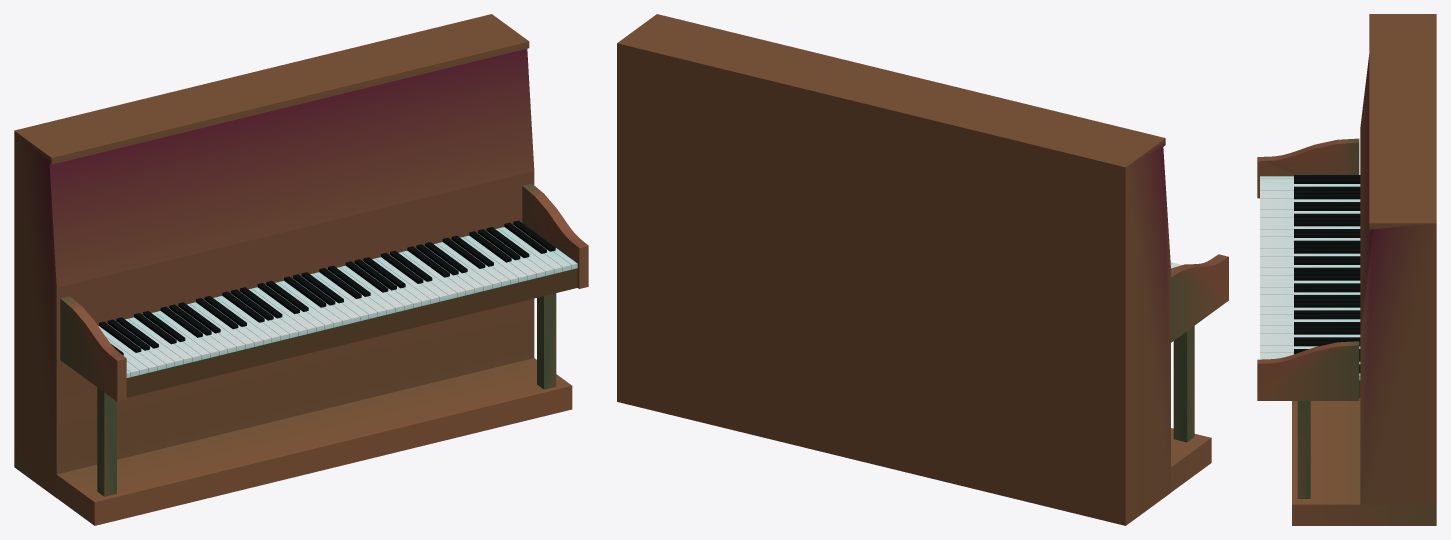
3 renders of one model, left to right at view 1: azimuth 30°, elevation 25°; view 2: azimuth 150°, elevation 25°; view 3: azimuth 270°, elevation 25°, orthographic. The views are drawn at different scales.
Visible parts, largest first — view 1: case, plinth, key_bed, cheek.001, cheek, support.001, support; view 2: case, cheek.001, support.001, plinth; view 3: case, plinth, cheek, cheek.001, support, white_key.021, white_key.028, white_key.035, white_key.042, black_key.014, black_key.004, black_key.009 (+37 smaller).
Part boxes in pixels (<box>): case: <box>14,14,534,497</box>; plinth: <box>14,358,572,525</box>; key_bed: <box>126,268,577,397</box>; cheek.001: <box>60,296,126,401</box>; cheek: <box>522,183,588,288</box>; support.001: <box>97,387,116,496</box>; support: <box>537,293,556,389</box>; case: <box>617,14,1170,525</box>; cheek.001: <box>1171,254,1228,342</box>; support.001: <box>1173,326,1194,442</box>; plinth: <box>1171,428,1211,492</box>; case: <box>1360,14,1436,525</box>; plinth: <box>1292,398,1436,525</box>; cheek: <box>1257,341,1359,400</box>; cheek.001: <box>1257,138,1359,198</box>; support: <box>1297,401,1310,498</box>; white_key.021: <box>1260,252,1360,256</box>; white_key.028: <box>1260,279,1360,283</box>; white_key.035: <box>1260,306,1360,310</box>; white_key.042: <box>1260,333,1360,337</box>; black_key.014: <box>1294,248,1360,253</box>; black_key.004: <box>1294,194,1360,199</box>; black_key.009: <box>1294,221,1360,226</box>.
Bounding box in the file's own units: 1.5 × 1.02 × 0.543.
